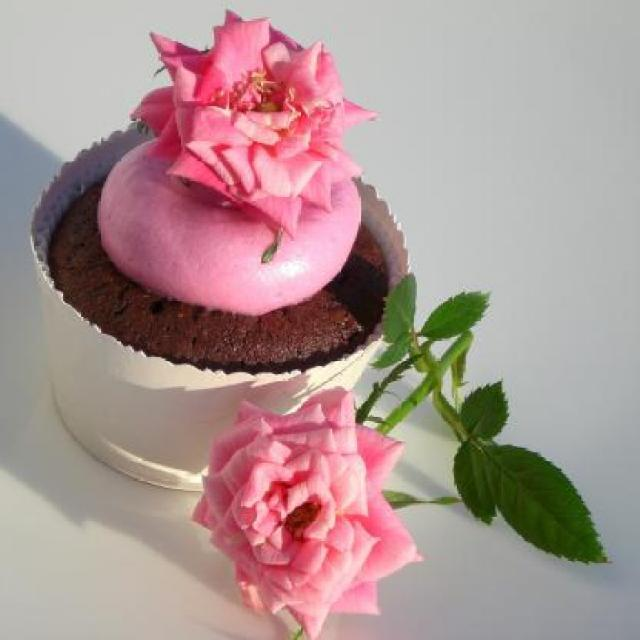Muffin: (20, 113, 412, 490)
